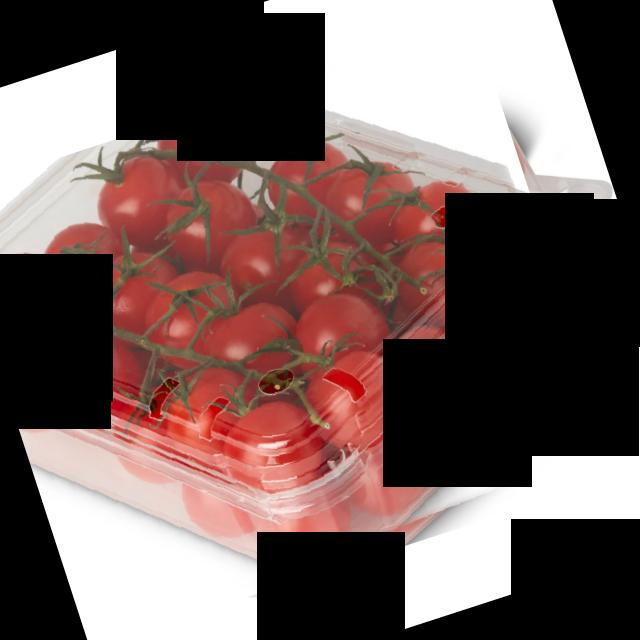tomatoes: (0, 23, 622, 640)
